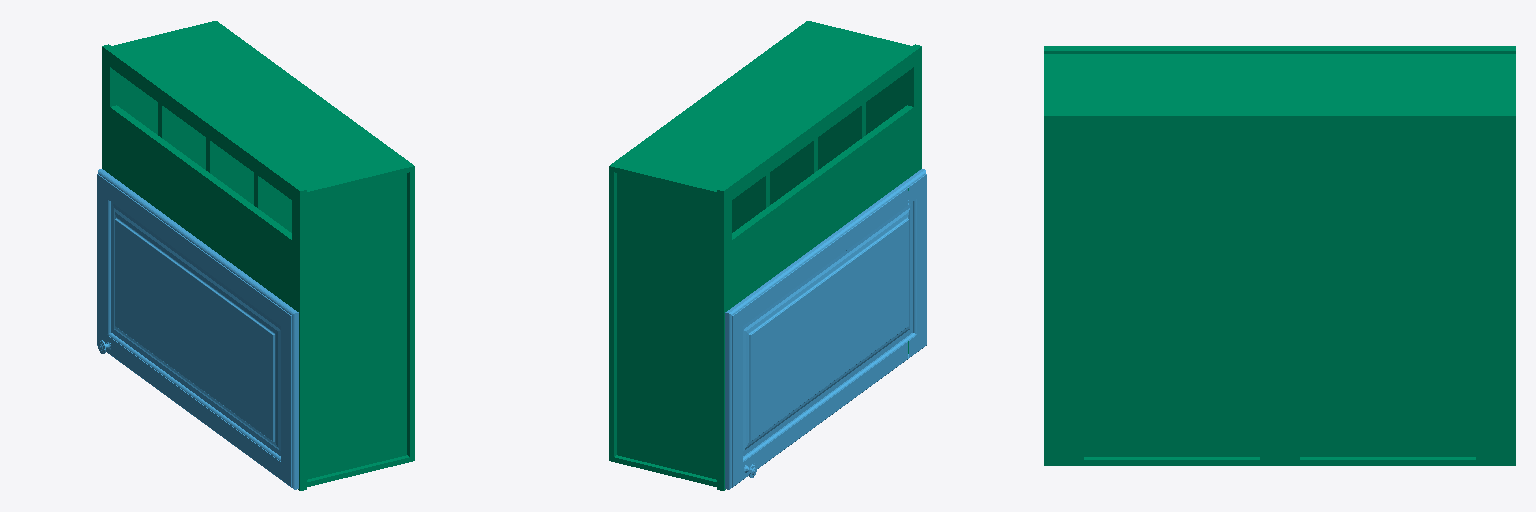
The robot description file, URDF, robot "partnet_1222c37fc0c37124824662341ce2b233":
<?xml version="1.0" ?>
<robot name="partnet_1222c37fc0c37124824662341ce2b233">
	<link name="base"/>
	<link name="link_0">
		<visual name="cabinet_door_surface-4">
			<origin xyz="-0.7406646891312345 -0.12271020101787222 -0.25736637189416045"/>
			<geometry>
				<mesh filename="textured_objs/original-31.obj"/>
			</geometry>
		</visual>
		<visual name="cabinet_door_surface-4">
			<origin xyz="-0.7406646891312345 -0.12271020101787222 -0.25736637189416045"/>
			<geometry>
				<mesh filename="textured_objs/original-34.obj"/>
			</geometry>
		</visual>
		<visual name="cabinet_door_surface-4">
			<origin xyz="-0.7406646891312345 -0.12271020101787222 -0.25736637189416045"/>
			<geometry>
				<mesh filename="textured_objs/original-27.obj"/>
			</geometry>
		</visual>
		<visual name="cabinet_door_surface-4">
			<origin xyz="-0.7406646891312345 -0.12271020101787222 -0.25736637189416045"/>
			<geometry>
				<mesh filename="textured_objs/original-29.obj"/>
			</geometry>
		</visual>
		<visual name="cabinet_door_surface-4">
			<origin xyz="-0.7406646891312345 -0.12271020101787222 -0.25736637189416045"/>
			<geometry>
				<mesh filename="textured_objs/original-26.obj"/>
			</geometry>
		</visual>
		<visual name="cabinet_door_surface-4">
			<origin xyz="-0.7406646891312345 -0.12271020101787222 -0.25736637189416045"/>
			<geometry>
				<mesh filename="textured_objs/original-30.obj"/>
			</geometry>
		</visual>
		<visual name="cabinet_door_surface-4">
			<origin xyz="-0.7406646891312345 -0.12271020101787222 -0.25736637189416045"/>
			<geometry>
				<mesh filename="textured_objs/original-24.obj"/>
			</geometry>
		</visual>
		<visual name="cabinet_door_surface-4">
			<origin xyz="-0.7406646891312345 -0.12271020101787222 -0.25736637189416045"/>
			<geometry>
				<mesh filename="textured_objs/original-28.obj"/>
			</geometry>
		</visual>
		<visual name="cabinet_door_surface-4">
			<origin xyz="-0.7406646891312345 -0.12271020101787222 -0.25736637189416045"/>
			<geometry>
				<mesh filename="textured_objs/original-25.obj"/>
			</geometry>
		</visual>
		<visual name="cabinet_door_surface-4">
			<origin xyz="-0.7406646891312345 -0.12271020101787222 -0.25736637189416045"/>
			<geometry>
				<mesh filename="textured_objs/original-33.obj"/>
			</geometry>
		</visual>
		<visual name="handle-5">
			<origin xyz="-0.7406646891312345 -0.12271020101787222 -0.25736637189416045"/>
			<geometry>
				<mesh filename="textured_objs/original-35.obj"/>
			</geometry>
		</visual>
		<collision>
			<origin xyz="-0.7406646891312345 -0.12271020101787222 -0.25736637189416045"/>
			<geometry>
				<mesh filename="textured_objs/original-31.obj"/>
			</geometry>
		</collision>
		<collision>
			<origin xyz="-0.7406646891312345 -0.12271020101787222 -0.25736637189416045"/>
			<geometry>
				<mesh filename="textured_objs/original-34.obj"/>
			</geometry>
		</collision>
		<collision>
			<origin xyz="-0.7406646891312345 -0.12271020101787222 -0.25736637189416045"/>
			<geometry>
				<mesh filename="textured_objs/original-27.obj"/>
			</geometry>
		</collision>
		<collision>
			<origin xyz="-0.7406646891312345 -0.12271020101787222 -0.25736637189416045"/>
			<geometry>
				<mesh filename="textured_objs/original-29.obj"/>
			</geometry>
		</collision>
		<collision>
			<origin xyz="-0.7406646891312345 -0.12271020101787222 -0.25736637189416045"/>
			<geometry>
				<mesh filename="textured_objs/original-26.obj"/>
			</geometry>
		</collision>
		<collision>
			<origin xyz="-0.7406646891312345 -0.12271020101787222 -0.25736637189416045"/>
			<geometry>
				<mesh filename="textured_objs/original-30.obj"/>
			</geometry>
		</collision>
		<collision>
			<origin xyz="-0.7406646891312345 -0.12271020101787222 -0.25736637189416045"/>
			<geometry>
				<mesh filename="textured_objs/original-24.obj"/>
			</geometry>
		</collision>
		<collision>
			<origin xyz="-0.7406646891312345 -0.12271020101787222 -0.25736637189416045"/>
			<geometry>
				<mesh filename="textured_objs/original-28.obj"/>
			</geometry>
		</collision>
		<collision>
			<origin xyz="-0.7406646891312345 -0.12271020101787222 -0.25736637189416045"/>
			<geometry>
				<mesh filename="textured_objs/original-25.obj"/>
			</geometry>
		</collision>
		<collision>
			<origin xyz="-0.7406646891312345 -0.12271020101787222 -0.25736637189416045"/>
			<geometry>
				<mesh filename="textured_objs/original-33.obj"/>
			</geometry>
		</collision>
		<collision>
			<origin xyz="-0.7406646891312345 -0.12271020101787222 -0.25736637189416045"/>
			<geometry>
				<mesh filename="textured_objs/original-35.obj"/>
			</geometry>
		</collision>
	</link>
	<joint name="joint_0" type="revolute">
		<origin xyz="0.7406646891312345 0.12271020101787222 0.25736637189416045"/>
		<axis xyz="0 0.9999997755973395 -0.0006699293024005787"/>
		<child link="link_0"/>
		<parent link="link_1"/>
		<limit lower="0.0" upper="1.5707963267948966"/>
	</joint>
	<link name="link_1">
		<visual name="vertical_side_panel-23">
			<origin xyz="0 0 0"/>
			<geometry>
				<mesh filename="textured_objs/original-14.obj"/>
			</geometry>
		</visual>
		<visual name="vertical_side_panel-23">
			<origin xyz="0 0 0"/>
			<geometry>
				<mesh filename="textured_objs/original-15.obj"/>
			</geometry>
		</visual>
		<visual name="vertical_side_panel-24">
			<origin xyz="0 0 0"/>
			<geometry>
				<mesh filename="textured_objs/original-3.obj"/>
			</geometry>
		</visual>
		<visual name="vertical_side_panel-24">
			<origin xyz="0 0 0"/>
			<geometry>
				<mesh filename="textured_objs/original-2.obj"/>
			</geometry>
		</visual>
		<visual name="vertical_front_panel-25">
			<origin xyz="0 0 0"/>
			<geometry>
				<mesh filename="textured_objs/original-18.obj"/>
			</geometry>
		</visual>
		<visual name="vertical_front_panel-25">
			<origin xyz="0 0 0"/>
			<geometry>
				<mesh filename="textured_objs/original-12.obj"/>
			</geometry>
		</visual>
		<visual name="vertical_front_panel-25">
			<origin xyz="0 0 0"/>
			<geometry>
				<mesh filename="textured_objs/original-16.obj"/>
			</geometry>
		</visual>
		<visual name="vertical_front_panel-25">
			<origin xyz="0 0 0"/>
			<geometry>
				<mesh filename="textured_objs/original-5.obj"/>
			</geometry>
		</visual>
		<visual name="vertical_front_panel-25">
			<origin xyz="0 0 0"/>
			<geometry>
				<mesh filename="textured_objs/original-11.obj"/>
			</geometry>
		</visual>
		<visual name="vertical_divider_panel-26">
			<origin xyz="0 0 0"/>
			<geometry>
				<mesh filename="textured_objs/original-19.obj"/>
			</geometry>
		</visual>
		<visual name="vertical_divider_panel-27">
			<origin xyz="0 0 0"/>
			<geometry>
				<mesh filename="textured_objs/original-21.obj"/>
			</geometry>
		</visual>
		<visual name="vertical_divider_panel-28">
			<origin xyz="0 0 0"/>
			<geometry>
				<mesh filename="textured_objs/original-22.obj"/>
			</geometry>
		</visual>
		<visual name="back_panel-29">
			<origin xyz="0 0 0"/>
			<geometry>
				<mesh filename="textured_objs/original-7.obj"/>
			</geometry>
		</visual>
		<visual name="back_panel-29">
			<origin xyz="0 0 0"/>
			<geometry>
				<mesh filename="textured_objs/original-36.obj"/>
			</geometry>
		</visual>
		<visual name="back_panel-29">
			<origin xyz="0 0 0"/>
			<geometry>
				<mesh filename="textured_objs/original-8.obj"/>
			</geometry>
		</visual>
		<visual name="bottom_panel-30">
			<origin xyz="0 0 0"/>
			<geometry>
				<mesh filename="textured_objs/original-10.obj"/>
			</geometry>
		</visual>
		<visual name="top_panel-31">
			<origin xyz="0 0 0"/>
			<geometry>
				<mesh filename="textured_objs/original-9.obj"/>
			</geometry>
		</visual>
		<visual name="frame_vertical_bar-32">
			<origin xyz="0 0 0"/>
			<geometry>
				<mesh filename="textured_objs/original-20.obj"/>
			</geometry>
		</visual>
		<visual name="frame_vertical_bar-33">
			<origin xyz="0 0 0"/>
			<geometry>
				<mesh filename="textured_objs/original-4.obj"/>
			</geometry>
		</visual>
		<visual name="frame_vertical_bar-34">
			<origin xyz="0 0 0"/>
			<geometry>
				<mesh filename="textured_objs/original-17.obj"/>
			</geometry>
		</visual>
		<collision>
			<origin xyz="0 0 0"/>
			<geometry>
				<mesh filename="textured_objs/original-14.obj"/>
			</geometry>
		</collision>
		<collision>
			<origin xyz="0 0 0"/>
			<geometry>
				<mesh filename="textured_objs/original-15.obj"/>
			</geometry>
		</collision>
		<collision>
			<origin xyz="0 0 0"/>
			<geometry>
				<mesh filename="textured_objs/original-3.obj"/>
			</geometry>
		</collision>
		<collision>
			<origin xyz="0 0 0"/>
			<geometry>
				<mesh filename="textured_objs/original-2.obj"/>
			</geometry>
		</collision>
		<collision>
			<origin xyz="0 0 0"/>
			<geometry>
				<mesh filename="textured_objs/original-18.obj"/>
			</geometry>
		</collision>
		<collision>
			<origin xyz="0 0 0"/>
			<geometry>
				<mesh filename="textured_objs/original-12.obj"/>
			</geometry>
		</collision>
		<collision>
			<origin xyz="0 0 0"/>
			<geometry>
				<mesh filename="textured_objs/original-16.obj"/>
			</geometry>
		</collision>
		<collision>
			<origin xyz="0 0 0"/>
			<geometry>
				<mesh filename="textured_objs/original-5.obj"/>
			</geometry>
		</collision>
		<collision>
			<origin xyz="0 0 0"/>
			<geometry>
				<mesh filename="textured_objs/original-11.obj"/>
			</geometry>
		</collision>
		<collision>
			<origin xyz="0 0 0"/>
			<geometry>
				<mesh filename="textured_objs/original-19.obj"/>
			</geometry>
		</collision>
		<collision>
			<origin xyz="0 0 0"/>
			<geometry>
				<mesh filename="textured_objs/original-21.obj"/>
			</geometry>
		</collision>
		<collision>
			<origin xyz="0 0 0"/>
			<geometry>
				<mesh filename="textured_objs/original-22.obj"/>
			</geometry>
		</collision>
		<collision>
			<origin xyz="0 0 0"/>
			<geometry>
				<mesh filename="textured_objs/original-7.obj"/>
			</geometry>
		</collision>
		<collision>
			<origin xyz="0 0 0"/>
			<geometry>
				<mesh filename="textured_objs/original-36.obj"/>
			</geometry>
		</collision>
		<collision>
			<origin xyz="0 0 0"/>
			<geometry>
				<mesh filename="textured_objs/original-8.obj"/>
			</geometry>
		</collision>
		<collision>
			<origin xyz="0 0 0"/>
			<geometry>
				<mesh filename="textured_objs/original-10.obj"/>
			</geometry>
		</collision>
		<collision>
			<origin xyz="0 0 0"/>
			<geometry>
				<mesh filename="textured_objs/original-9.obj"/>
			</geometry>
		</collision>
		<collision>
			<origin xyz="0 0 0"/>
			<geometry>
				<mesh filename="textured_objs/original-20.obj"/>
			</geometry>
		</collision>
		<collision>
			<origin xyz="0 0 0"/>
			<geometry>
				<mesh filename="textured_objs/original-4.obj"/>
			</geometry>
		</collision>
		<collision>
			<origin xyz="0 0 0"/>
			<geometry>
				<mesh filename="textured_objs/original-17.obj"/>
			</geometry>
		</collision>
	</link>
	<joint name="joint_1" type="fixed">
		<origin rpy="1.570796326794897 0 -1.570796326794897" xyz="0 0 0"/>
		<child link="link_1"/>
		<parent link="base"/>
	</joint>
</robot>

--- Render facts (derived) ---
Views: 3 orthographic renders of the robot side by side, from view 1: azimuth 30°, elevation 25°; view 2: azimuth 150°, elevation 25°; view 3: azimuth 270°, elevation 25°.
Model partnet_1222c37fc0c37124824662341ce2b233 with 3 links and 2 joints (1 revolute, 1 fixed), rooted at base, posed all joints at 0.
Links seen in each view (by area): view 1: link_1, link_0; view 2: link_1, link_0; view 3: link_1.
Link boxes in pixels (left/top/right/bottom): link_1: left=102, top=21, right=414, bottom=490; link_0: left=97, top=169, right=298, bottom=489; link_1: left=609, top=21, right=921, bottom=490; link_0: left=725, top=169, right=926, bottom=489; link_1: left=1044, top=46, right=1515, bottom=465.
Size in the robot's own frame: 0.5866 by 1.54 by 1.28 metres.
31 mesh visuals loaded from 31 distinct referenced files (31 OBJ).
